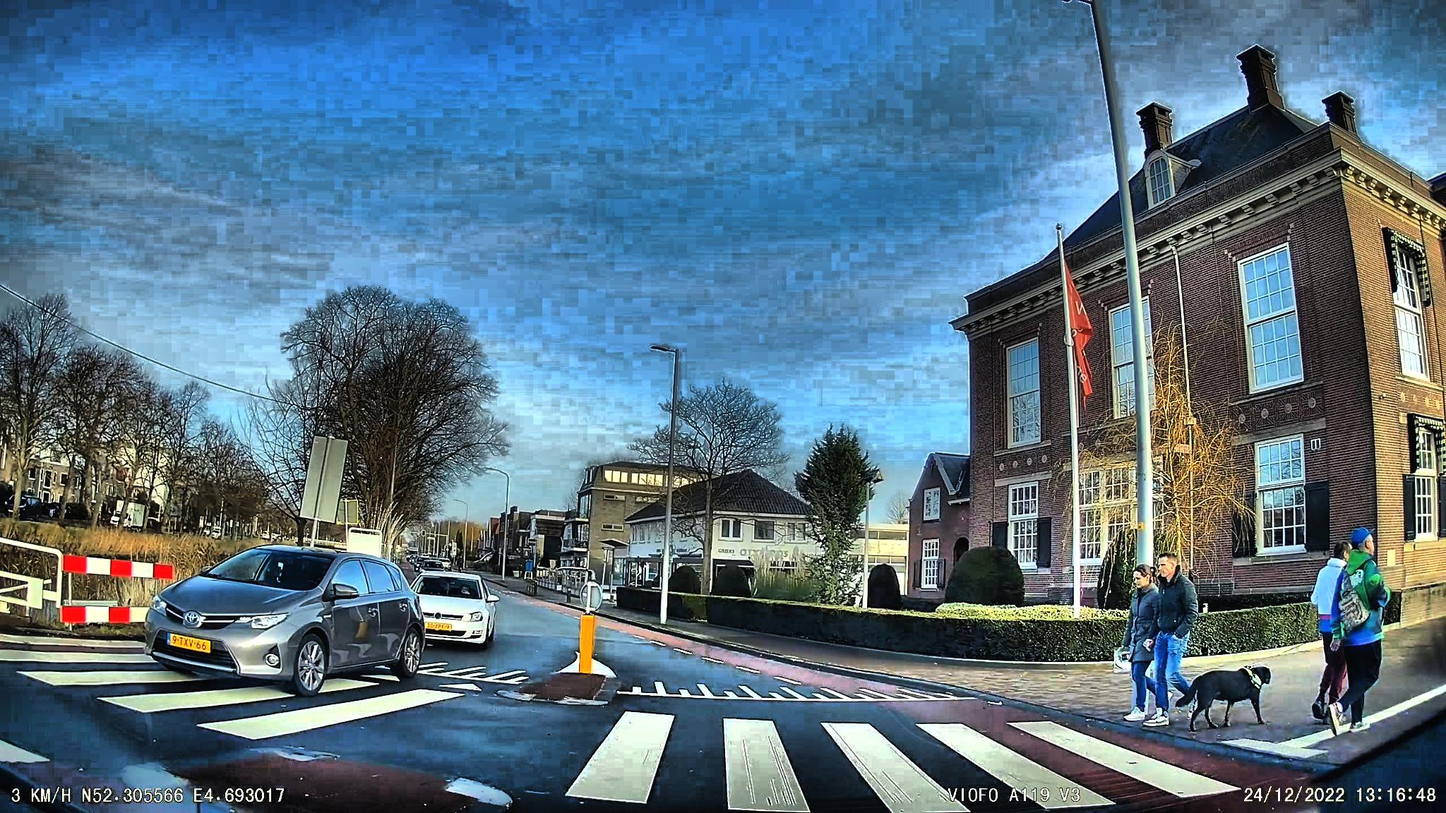Roads: (0, 600, 1324, 813)
